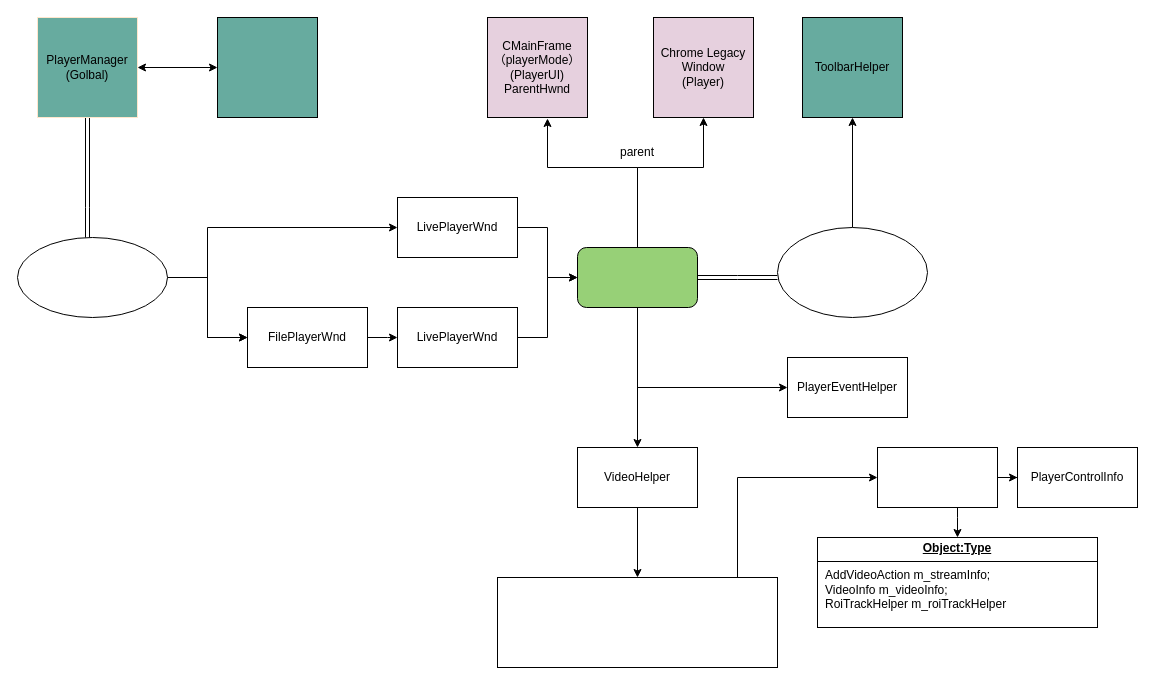
This 1155x685 diagram has some shape labels left out. Each missing label, with the box of its shape:
IPlayer ATL::CWindowImpl: (576, 246, 698, 308)
Object:Type std::map<std::string, VideoItem *> m_videoMap: (496, 576, 778, 668)
PlayerControl: (776, 226, 928, 318)
std::vector<IPlayer *>: (16, 236, 168, 318)
VideoItem: (876, 446, 998, 508)
WebsocketServer: (216, 16, 318, 118)
